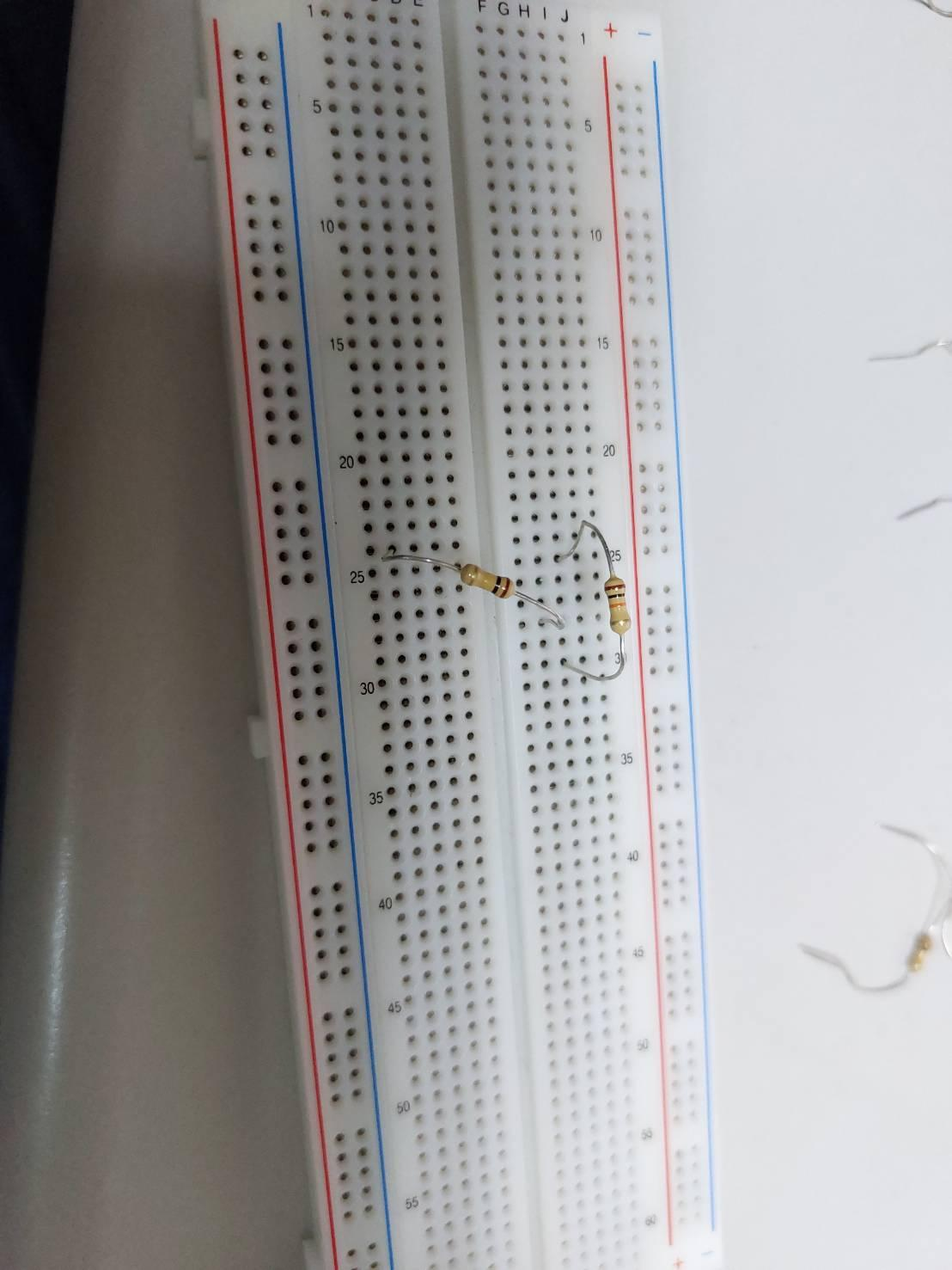resistor: (461, 562, 514, 598), (606, 577, 631, 634)
